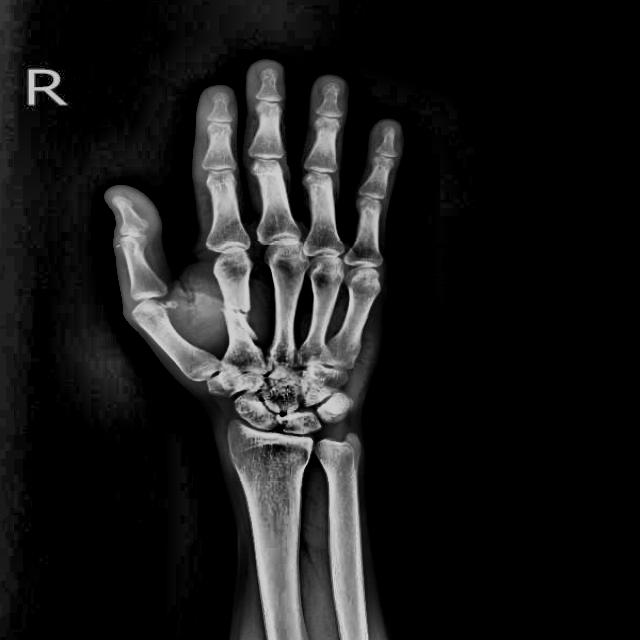fracture: (220, 304, 255, 343)
